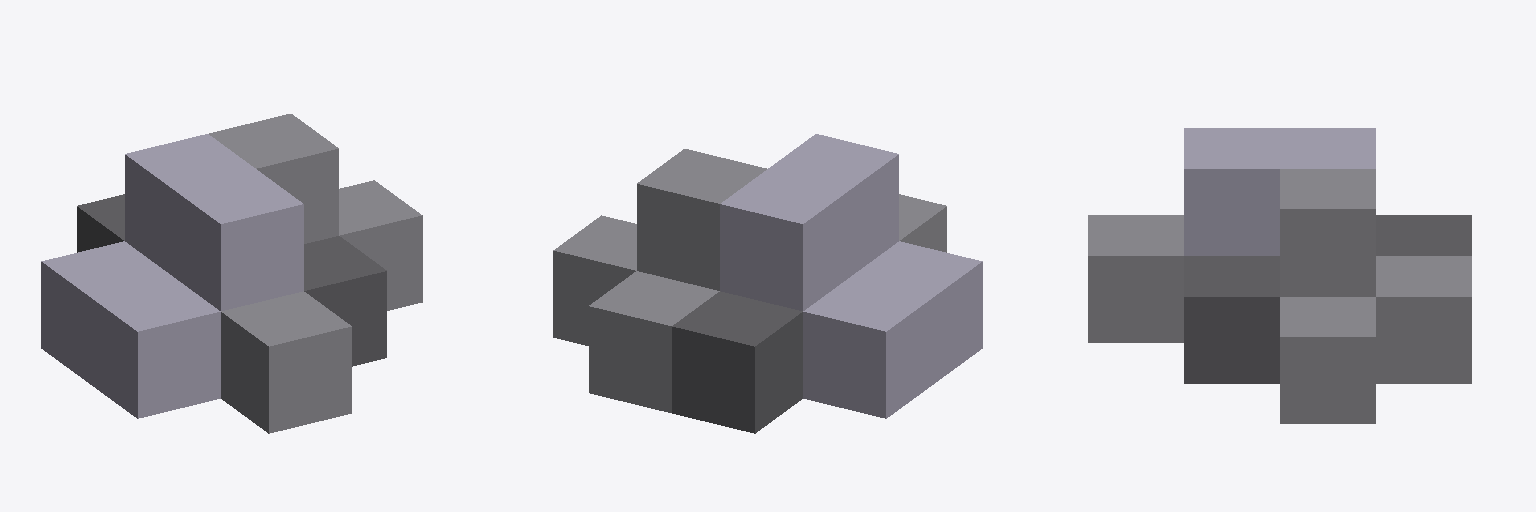
3 views of the same model, side by side, from view 1: azimuth 30°, elevation 25°; view 2: azimuth 150°, elevation 25°; view 3: azimuth 270°, elevation 25° (orthographic).
Bounding box in the file's own units: 4 × 2 × 4.
1 materials, 1 textured.